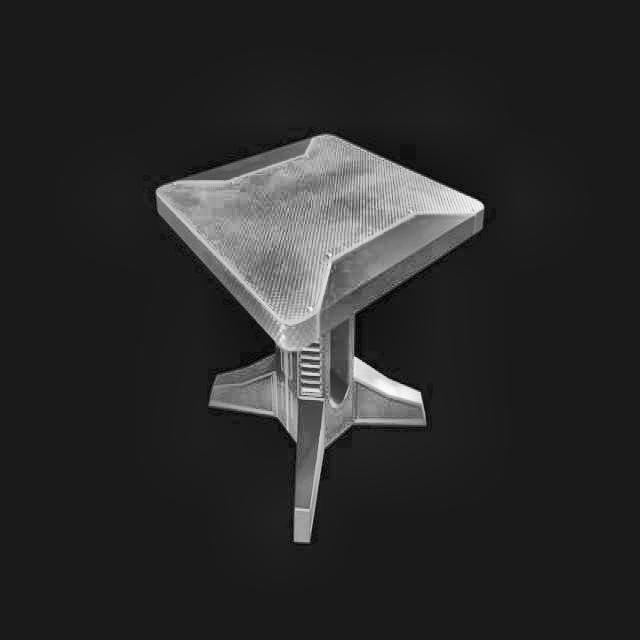mesa: (156, 132, 486, 540)
